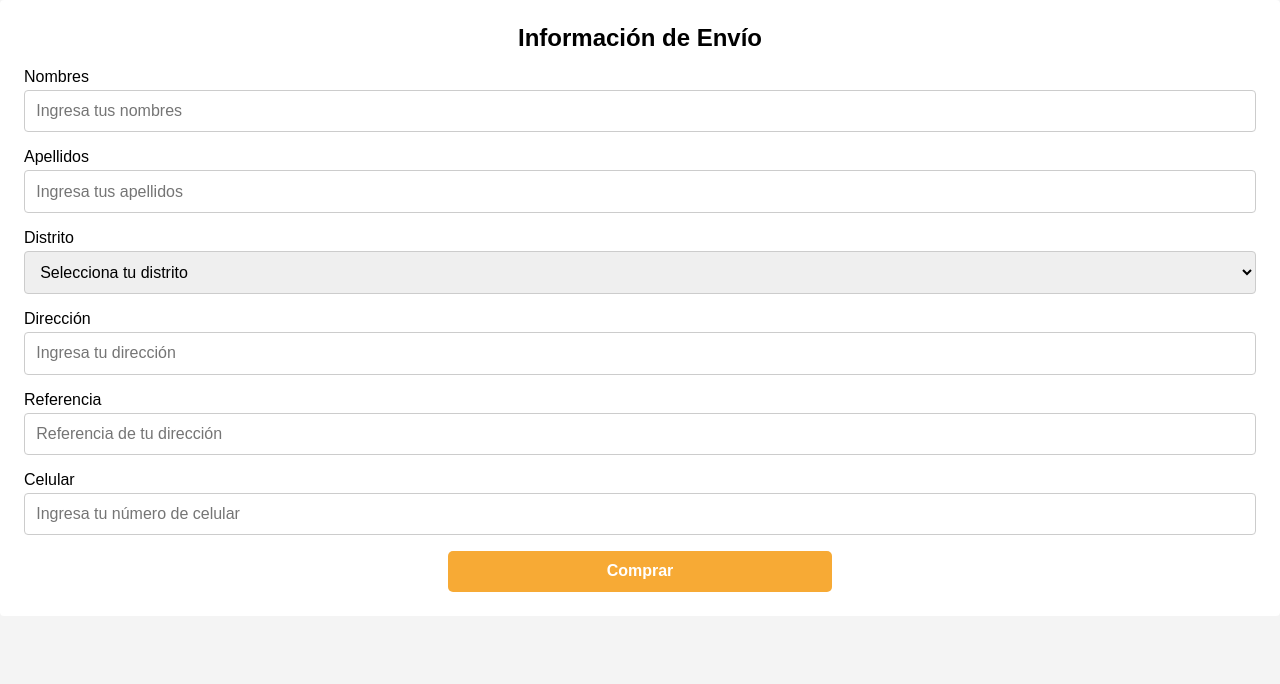
Test: ShippingForm Component › validates incorrect phone number format
This screenshot has width=1280, height=684.
Type "12345" into the field labelled "Celular" at (640, 514), box [24, 493, 1256, 535]
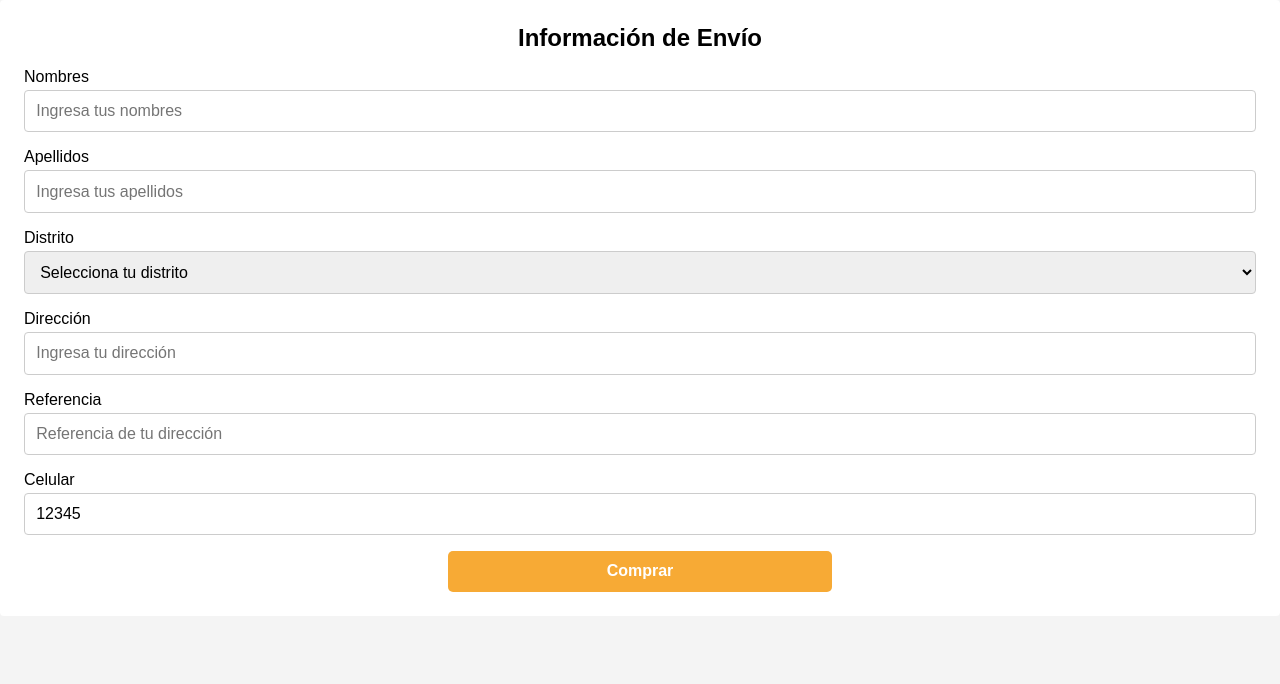
Click the button "Comprar" at (640, 572), box [448, 551, 832, 592]
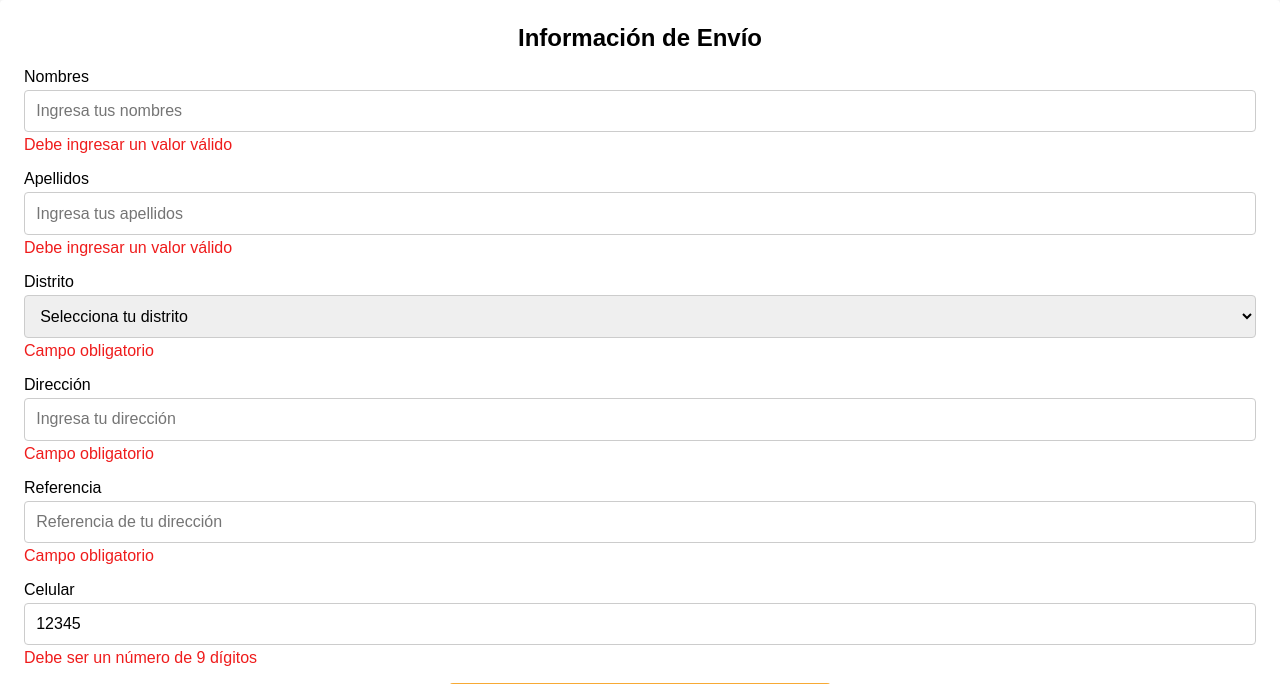
Check: the text "Debe ser un número de 9 dígitos" is shown, box [24, 649, 257, 666]
